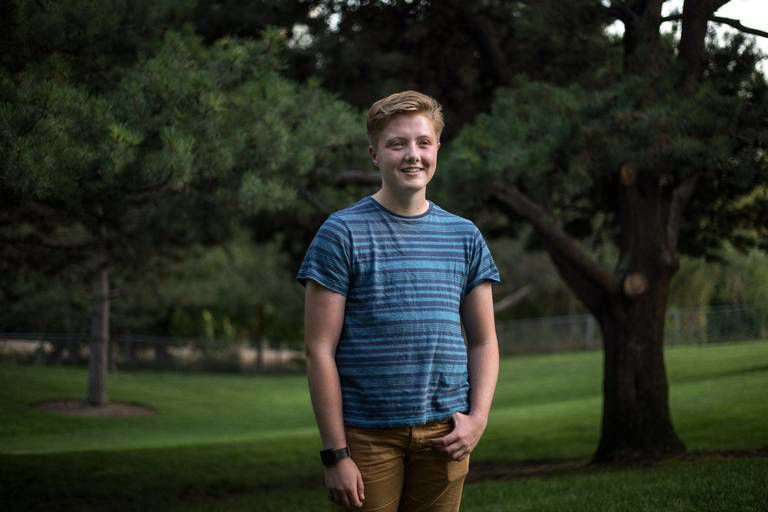bare: (374, 148, 441, 190)
